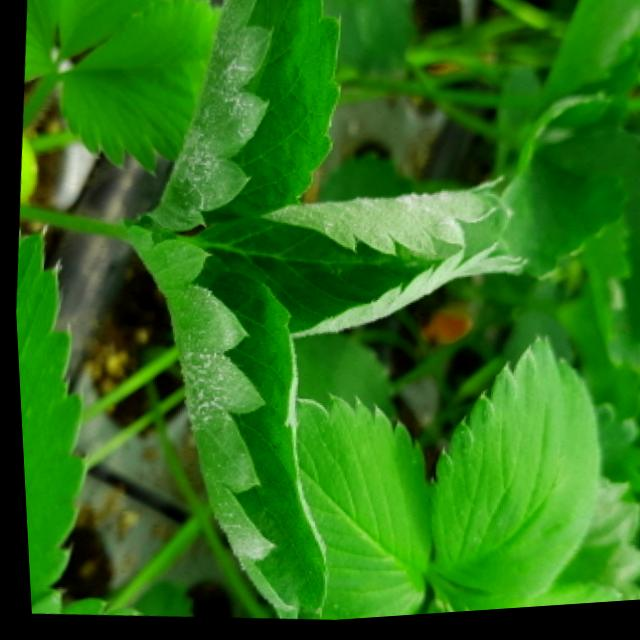Powdery Mildew Leaf: (121, 227, 326, 623), (179, 182, 524, 342), (131, 0, 343, 238)
